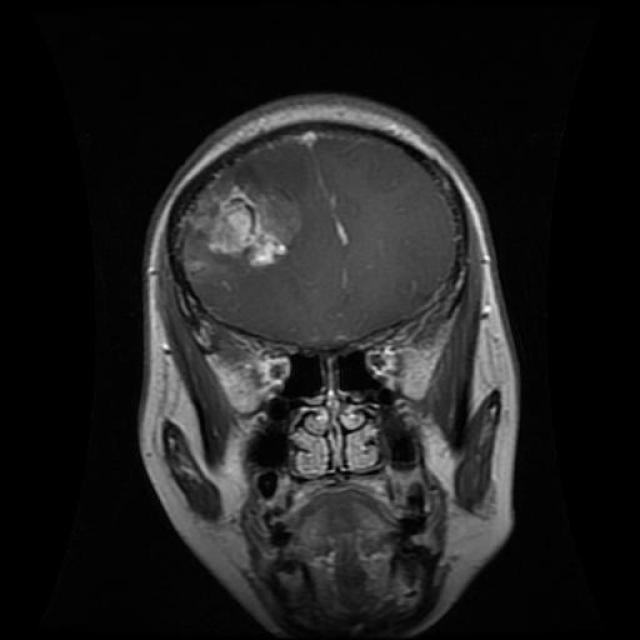Brain-Tumor: (176, 163, 314, 284)
